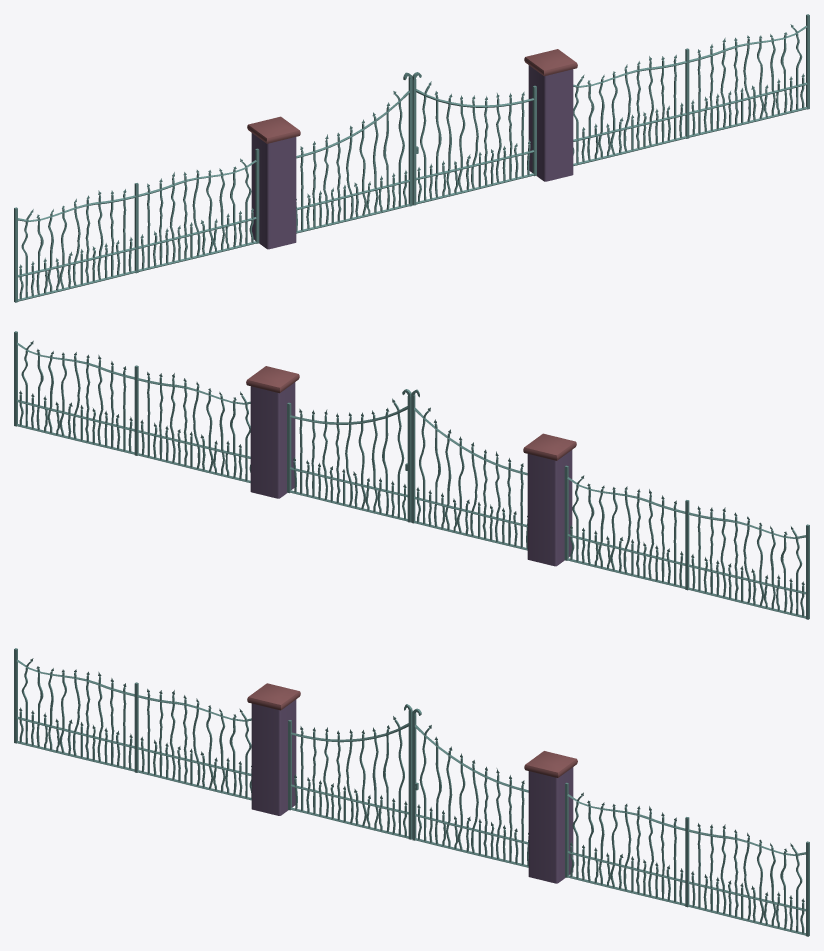
The model's file is Gates.fbx.
3 renders of one model, top to bottom at view 1: azimuth 30°, elevation 25°; view 2: azimuth 150°, elevation 25°; view 3: azimuth 330°, elevation 25°, orthographic.
Visible parts, largest first — view 1: Porte, Cloture, Cloture.003, Porte.061, Porte.063, Porte.060, Porte.062; view 2: Porte, Cloture, Cloture.003, Porte.061, Porte.063, Porte.060, Porte.062; view 3: Porte, Cloture.003, Cloture, Porte.063, Porte.061, Porte.062, Porte.060.
Part boxes in pixels (left/top/right/bottom): Porte: left=296, top=72, right=536, bottom=233; Cloture: left=14, top=148, right=259, bottom=302; Cloture.003: left=573, top=14, right=809, bottom=165; Porte.061: left=251, top=133, right=296, bottom=249; Porte.063: left=528, top=65, right=573, bottom=181; Porte.060: left=247, top=116, right=300, bottom=143; Porte.062: left=524, top=49, right=577, bottom=76; Porte: left=287, top=389, right=527, bottom=550; Cloture: left=564, top=465, right=809, bottom=619; Cloture.003: left=14, top=331, right=250, bottom=482; Porte.061: left=527, top=450, right=572, bottom=566; Porte.063: left=250, top=382, right=295, bottom=498; Porte.060: left=523, top=433, right=576, bottom=460; Porte.062: left=246, top=366, right=299, bottom=393; Porte: left=288, top=704, right=528, bottom=867; Cloture.003: left=565, top=782, right=809, bottom=936; Cloture: left=14, top=648, right=251, bottom=800; Porte.063: left=528, top=767, right=573, bottom=883; Porte.061: left=251, top=699, right=296, bottom=815; Porte.062: left=524, top=751, right=577, bottom=777; Porte.060: left=247, top=683, right=300, bottom=710.
Size of the model in its own units: 1304 by 211 by 55.9.
